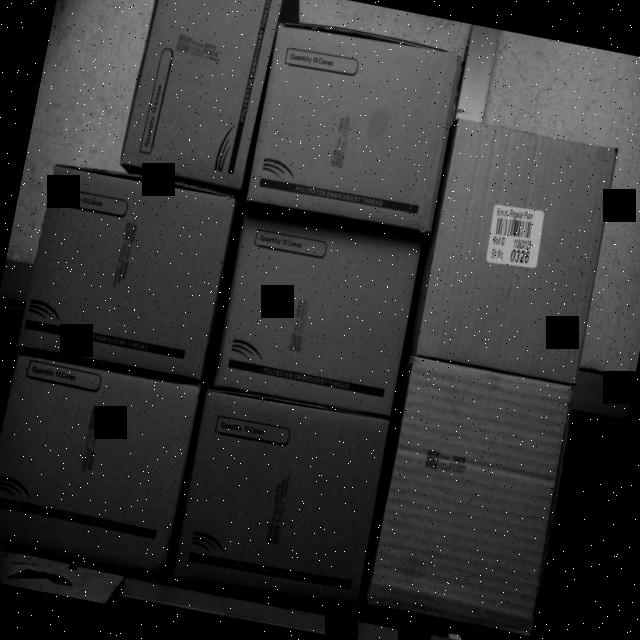box: (366, 360, 578, 636), (412, 117, 622, 384), (172, 388, 396, 615), (243, 16, 467, 235), (0, 346, 207, 576), (19, 165, 238, 382), (210, 206, 422, 416), (116, 0, 283, 193)
